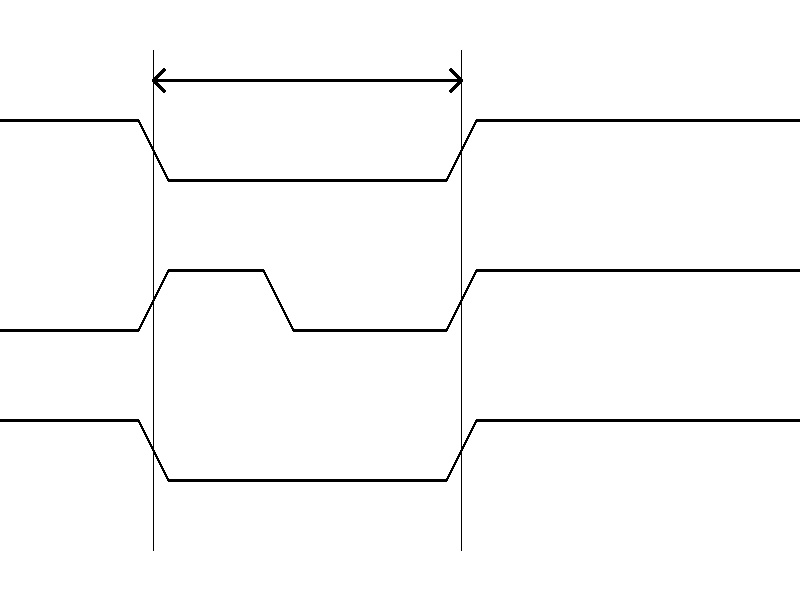double_arrow: (153, 65, 461, 95)
